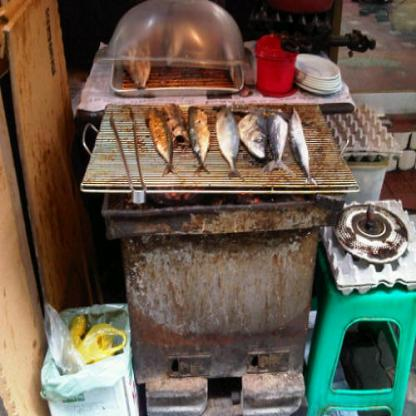Peixe: (134, 98, 314, 204)
